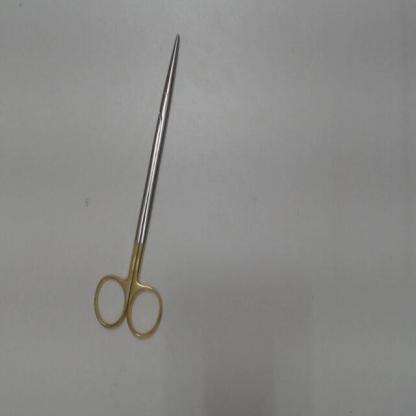7 Metzenbaum Scissors: (90, 30, 181, 344)
